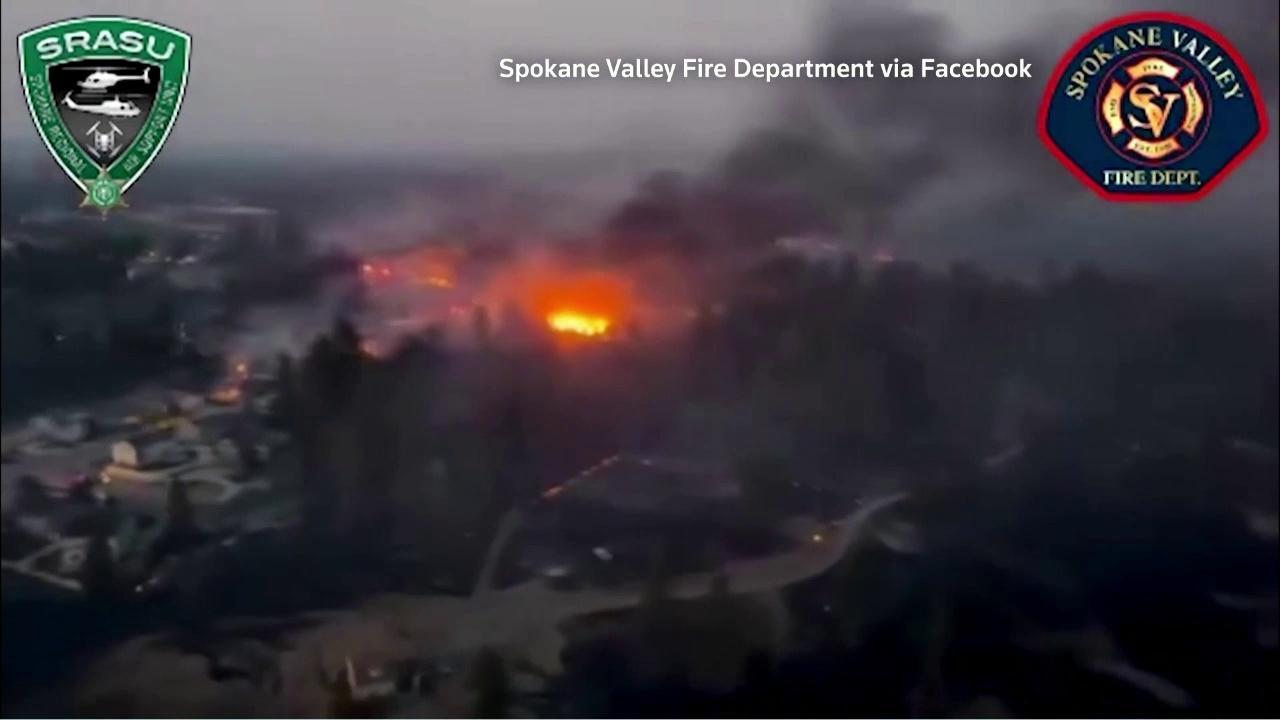fire: (545, 309, 612, 343), (420, 274, 457, 292), (210, 387, 251, 402), (229, 360, 251, 381), (360, 263, 374, 274), (383, 267, 393, 280)
smoke: (218, 0, 1280, 480)
